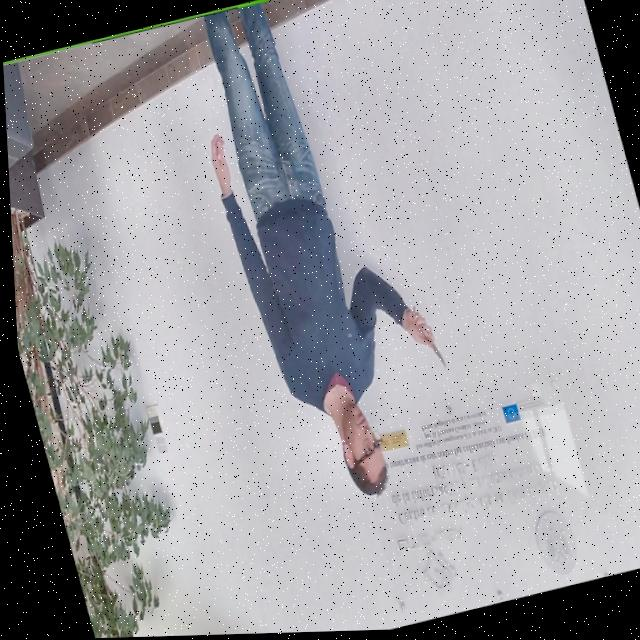knife: (421, 336, 445, 371)
